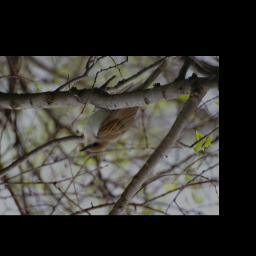Cuckoo: (79, 56, 172, 152)
